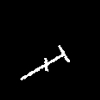double_crochet: (21, 45, 69, 79)
